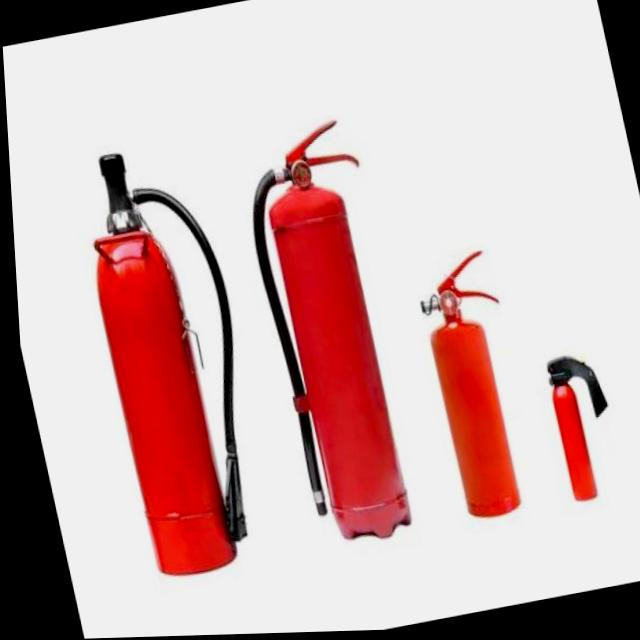FireExtinguisher: (51, 129, 283, 588), (223, 111, 436, 559), (403, 243, 541, 528), (527, 342, 626, 511)
